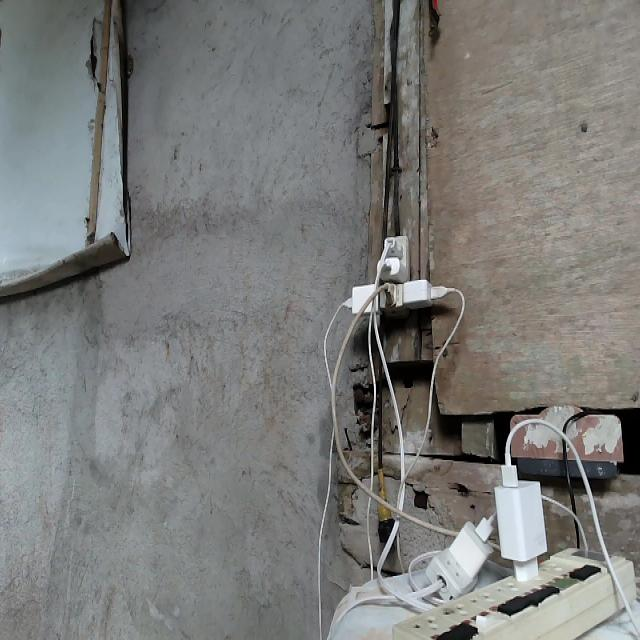-: (336, 230, 443, 314)
